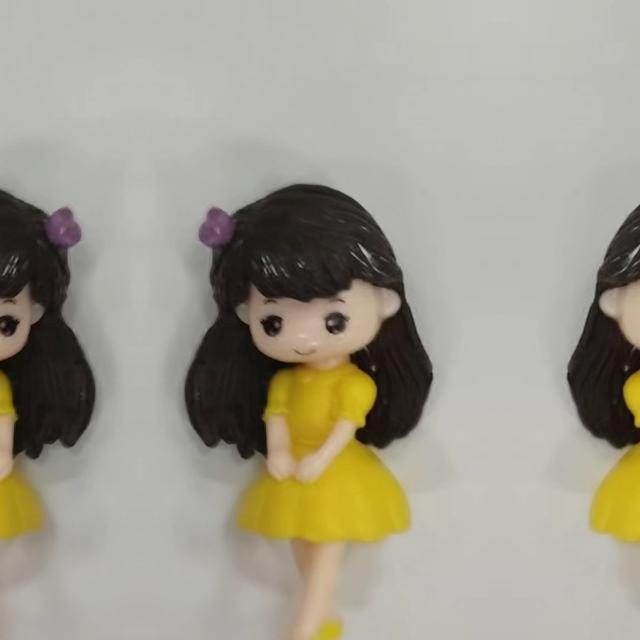woman dress: (254, 369, 402, 636), (598, 369, 640, 636), (0, 369, 25, 636)
woman head: (190, 194, 400, 366), (0, 194, 90, 366), (599, 194, 640, 366)
